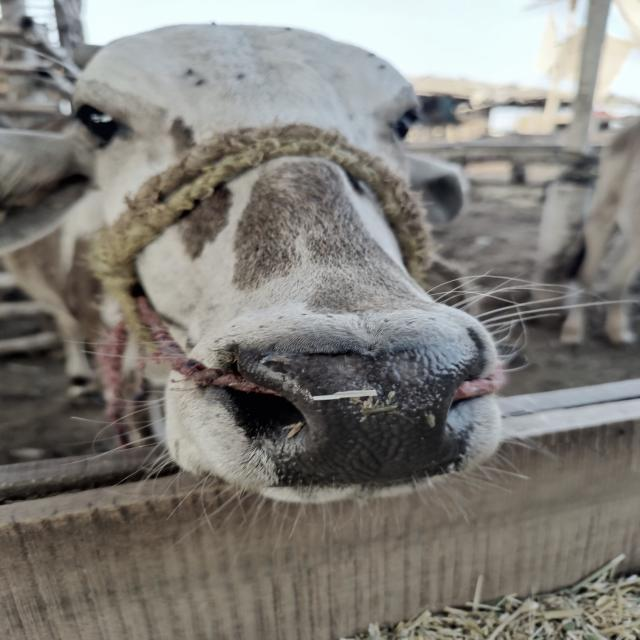muzzles: (208, 327, 503, 502)
